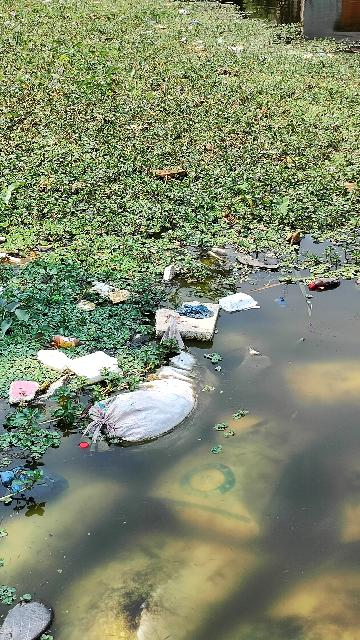cocksheet: (155, 298, 224, 346), (35, 349, 124, 378), (6, 375, 48, 411)
